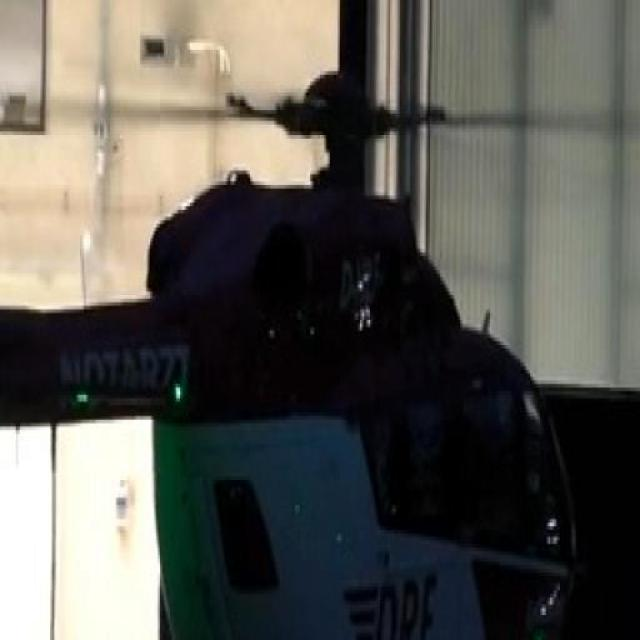drone: (0, 0, 600, 640)
